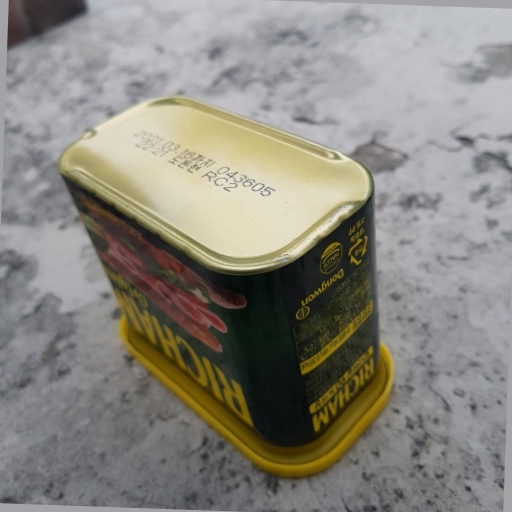Metal_2: (60, 90, 399, 481)
